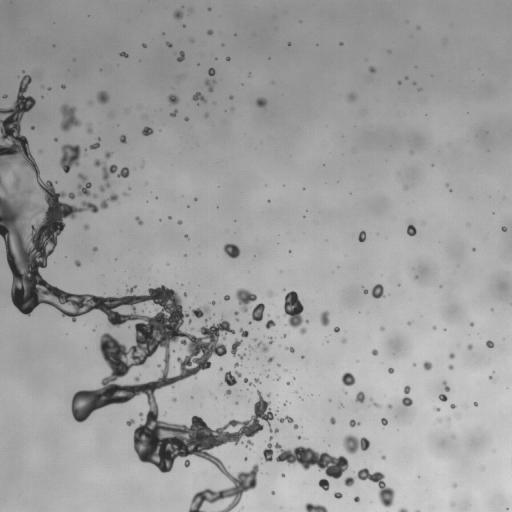droplet: (94, 151, 117, 191), (59, 144, 81, 172), (60, 104, 81, 131), (235, 288, 257, 312), (343, 434, 370, 453), (77, 173, 91, 196), (231, 339, 245, 360), (224, 371, 241, 386), (224, 243, 240, 258), (251, 303, 264, 321), (341, 372, 355, 386), (371, 284, 384, 298), (97, 91, 109, 103), (318, 477, 329, 490), (320, 311, 329, 326), (205, 79, 215, 91), (117, 167, 129, 177), (192, 92, 205, 101), (344, 476, 355, 486), (407, 224, 416, 236), (168, 94, 178, 104), (256, 97, 266, 107), (265, 319, 275, 329), (239, 328, 249, 338), (142, 126, 153, 135), (355, 391, 364, 402), (349, 419, 360, 427), (358, 230, 365, 242), (174, 10, 183, 19), (90, 140, 99, 149), (423, 361, 432, 370), (347, 93, 356, 101), (177, 51, 184, 61), (486, 340, 494, 348), (438, 394, 447, 401), (208, 68, 215, 76), (135, 216, 142, 224), (126, 419, 134, 426), (119, 51, 128, 57), (87, 123, 92, 133), (120, 135, 126, 143), (334, 492, 342, 498), (369, 66, 375, 73), (170, 110, 177, 116), (267, 290, 273, 297), (371, 349, 378, 355), (381, 418, 387, 425), (268, 336, 273, 344), (286, 347, 294, 352), (444, 417, 450, 423), (353, 496, 359, 502), (330, 417, 335, 424), (75, 260, 80, 266), (334, 326, 339, 332), (267, 357, 273, 362), (388, 368, 394, 373), (225, 389, 231, 394), (434, 406, 440, 411), (234, 363, 241, 367), (166, 42, 171, 47), (84, 224, 89, 229), (501, 226, 506, 231), (224, 295, 229, 300), (467, 344, 472, 349), (449, 353, 454, 358), (293, 424, 298, 429), (207, 30, 212, 34), (2, 94, 7, 98), (177, 220, 182, 224), (93, 246, 97, 251), (448, 365, 453, 369), (450, 404, 455, 408), (437, 418, 442, 422), (142, 43, 146, 47), (61, 84, 65, 88), (30, 125, 34, 129), (234, 311, 238, 315), (469, 322, 473, 326), (282, 334, 286, 338), (342, 339, 346, 343), (381, 455, 385, 459), (226, 57, 230, 60), (397, 81, 401, 84), (205, 113, 208, 117), (123, 192, 127, 195), (93, 194, 96, 198), (185, 234, 188, 238), (364, 289, 367, 293), (188, 319, 191, 323), (407, 321, 410, 325), (269, 436, 272, 440), (229, 96, 232, 99), (185, 117, 188, 120), (54, 138, 57, 141), (184, 293, 187, 296), (212, 301, 215, 304), (206, 318, 209, 321), (380, 327, 383, 330), (219, 367, 222, 370), (267, 393, 270, 396), (173, 398, 176, 401), (284, 402, 287, 405), (474, 402, 477, 405), (388, 405, 391, 408), (298, 436, 301, 439), (244, 457, 247, 460), (281, 474, 284, 477), (453, 484, 456, 487), (271, 491, 274, 494), (286, 382, 290, 384), (340, 42, 342, 45), (48, 87, 50, 90), (194, 198, 197, 200), (433, 326, 435, 329), (413, 363, 415, 366), (489, 376, 492, 378), (208, 8, 210, 10), (417, 26, 419, 28), (405, 187, 407, 189), (169, 216, 171, 218), (415, 275, 417, 277), (249, 345, 251, 347), (302, 356, 304, 358), (266, 375, 268, 377), (277, 377, 279, 379), (235, 402, 237, 404)
ligament: (0, 74, 277, 511), (262, 443, 348, 479), (356, 468, 394, 507), (283, 291, 308, 334), (402, 385, 412, 406), (254, 338, 268, 352), (305, 503, 327, 511), (243, 378, 260, 386), (278, 416, 293, 423), (370, 398, 380, 407), (442, 380, 450, 391), (0, 176, 3, 187), (398, 508, 407, 511), (415, 510, 419, 511)
